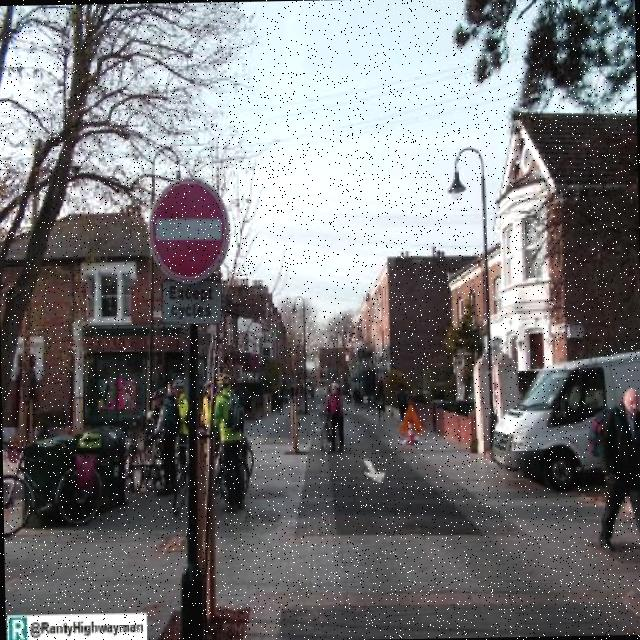Zakaz wjazdu: (146, 174, 228, 284)
